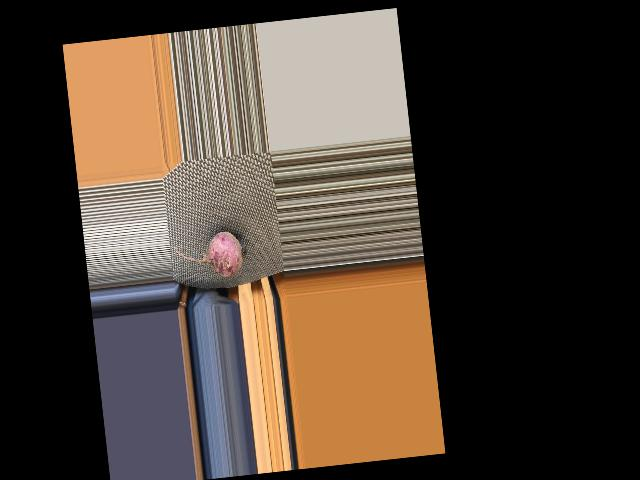beet: (174, 229, 250, 283)
